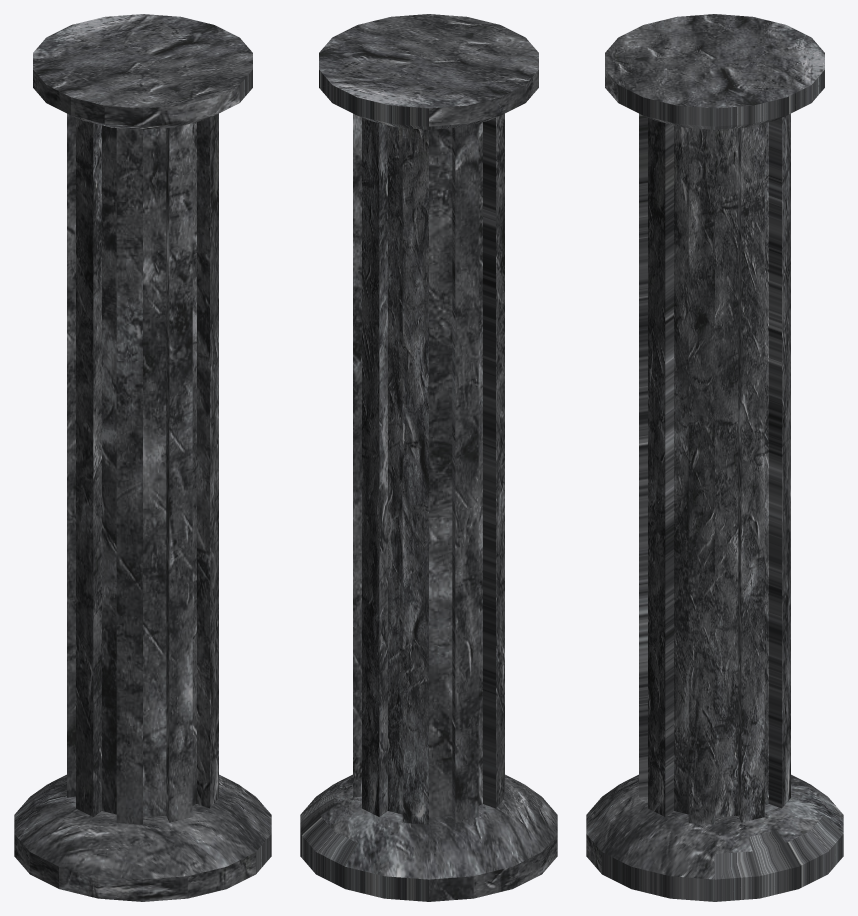
The model's file is Coloumn_01.DAE.
The picture shows the model from 3 angles, left to right: view 1: azimuth 30°, elevation 25°; view 2: azimuth 150°, elevation 25°; view 3: azimuth 270°, elevation 25°; orthographic projection.
Parts seen in each view (by area): view 1: Column 1; view 2: Column 1; view 3: Column 1.
Boxes of the visible parts, x1,y1,x2,y2 form: Column 1: (14,14,271,901); Column 1: (300,14,557,901); Column 1: (586,14,843,901).
Size of the model in its own units: 16.9 by 56.1 by 16.65.
Materials: 1 (1 with a texture image).
